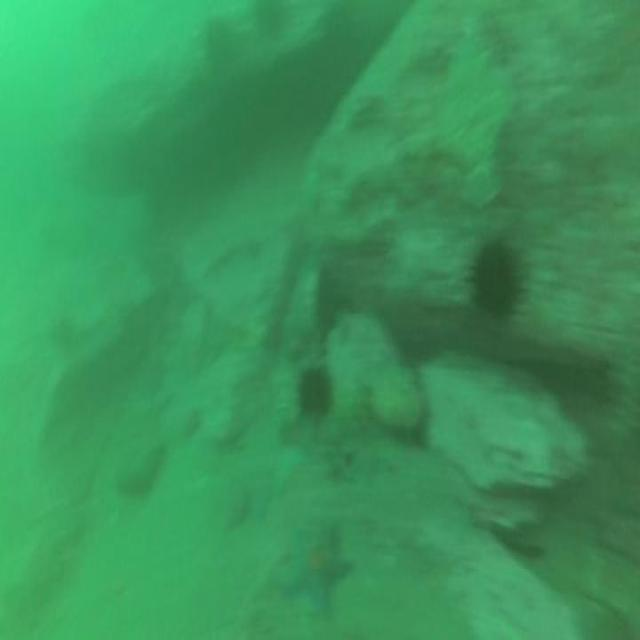echinus: (469, 232, 527, 329), (296, 362, 339, 422), (204, 14, 236, 73), (252, 0, 294, 40)
starfish: (278, 520, 352, 618)
